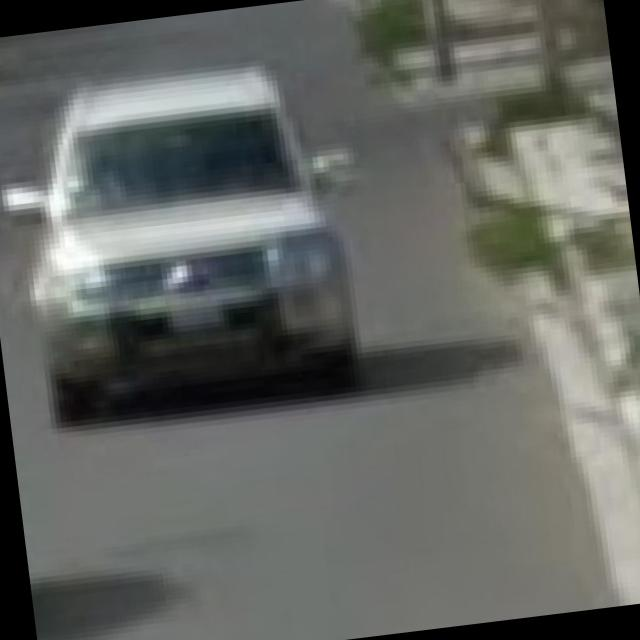car: (1, 49, 373, 438)
